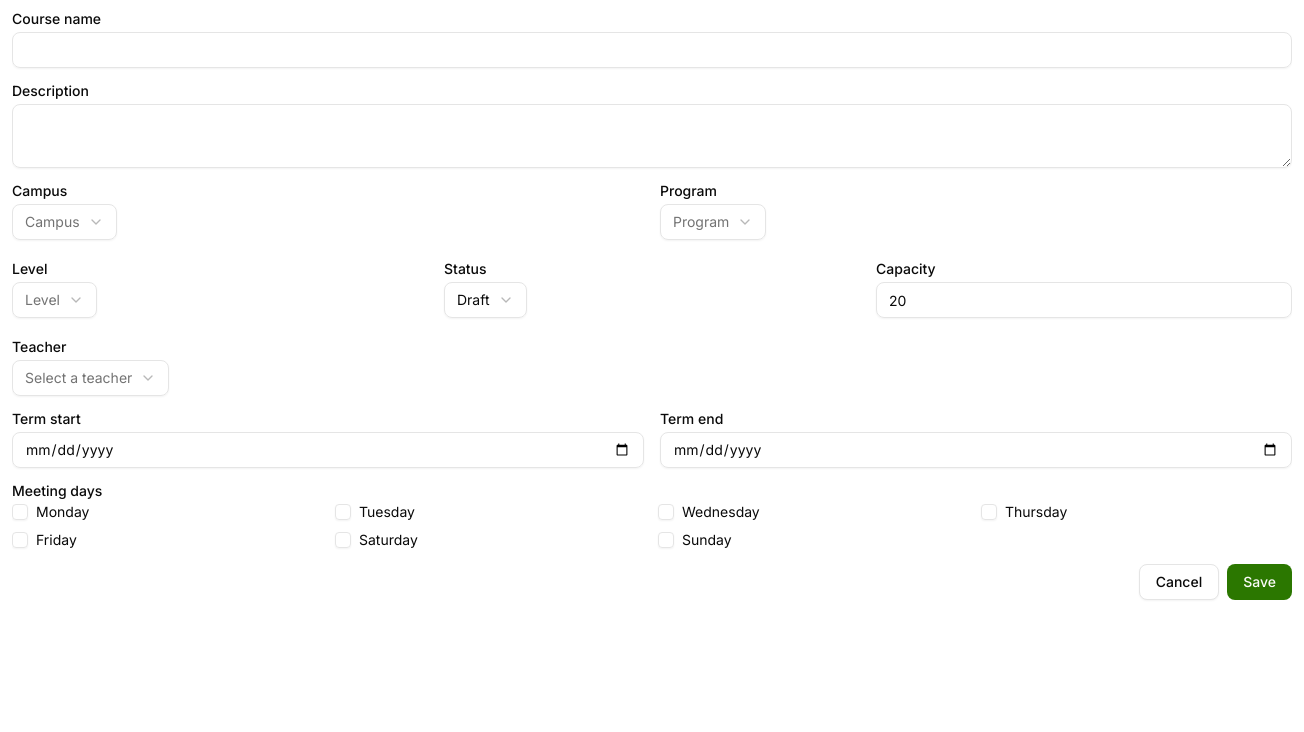
Test: <CourseForm /> › offers only Teachers at the chosen Sede (ADR-0011)
Click the dropdown labelled "Campus" at (64, 222), box x1=12 y1=204 x2=117 y2=240
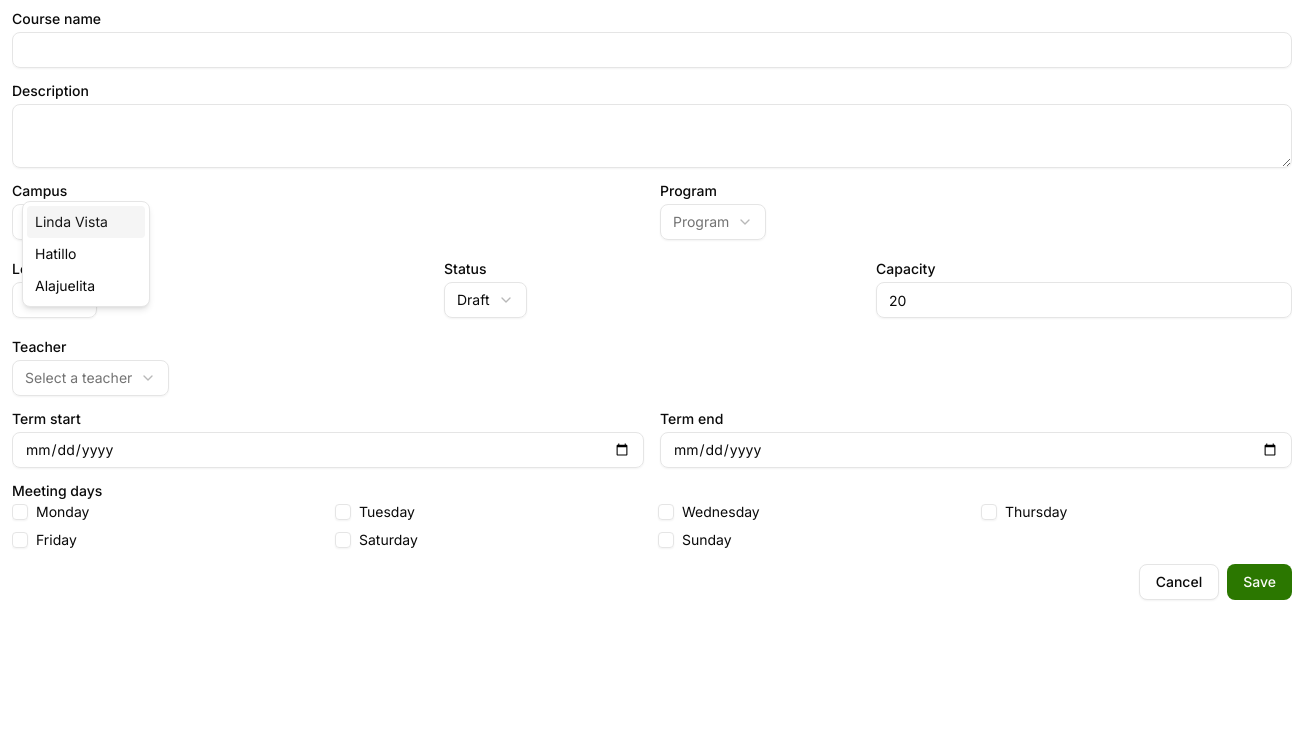
Click the option "Linda Vista" at (86, 222), box x1=27 y1=206 x2=145 y2=238
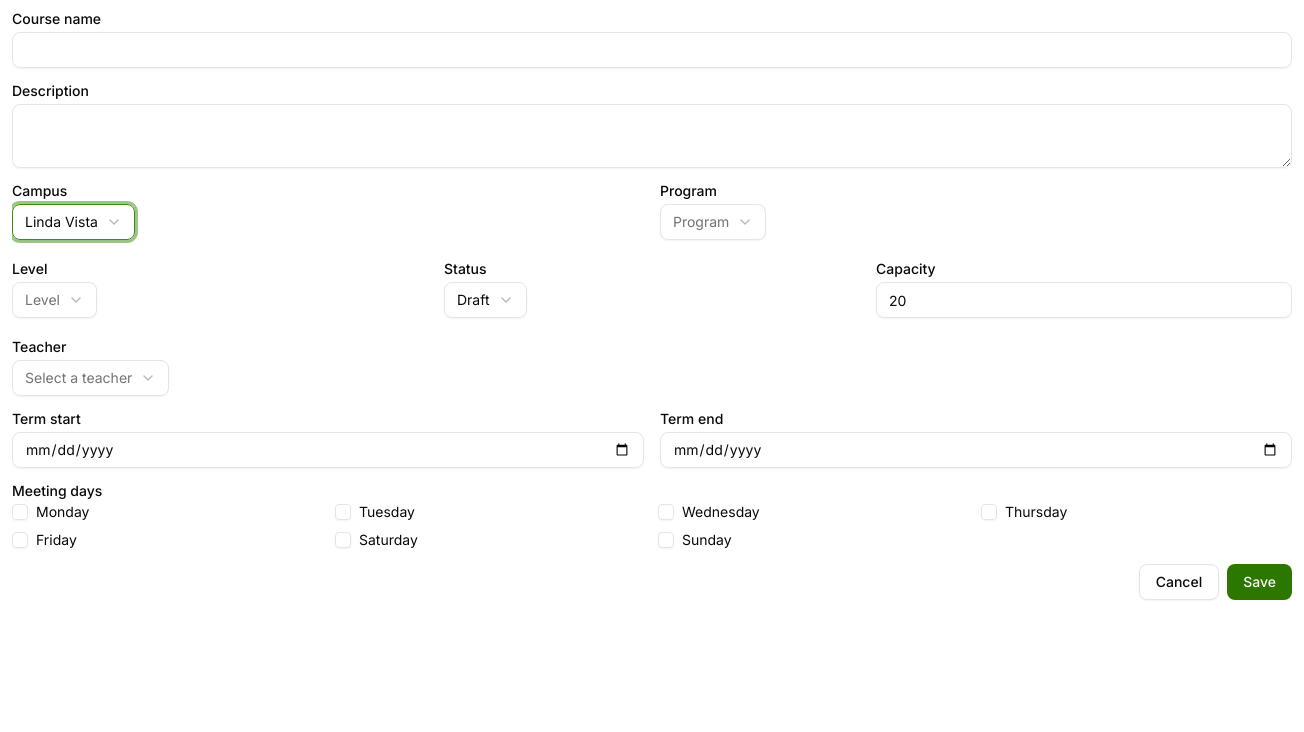
Click the dropdown labelled "teacher" at (91, 378), box x1=12 y1=360 x2=169 y2=396
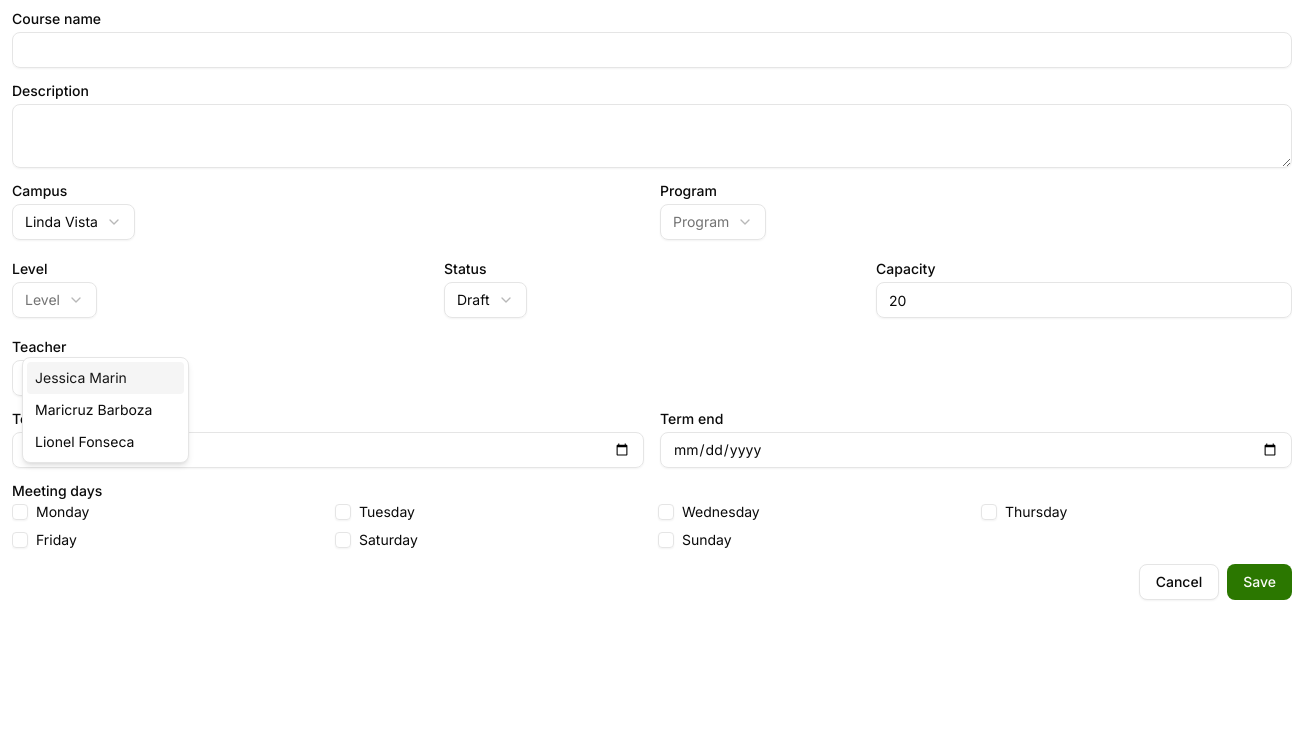
Expected: the number of options is 3, x1=27 y1=362 x2=184 y2=394; x1=35 y1=401 x2=152 y2=418; x1=35 y1=433 x2=134 y2=450
